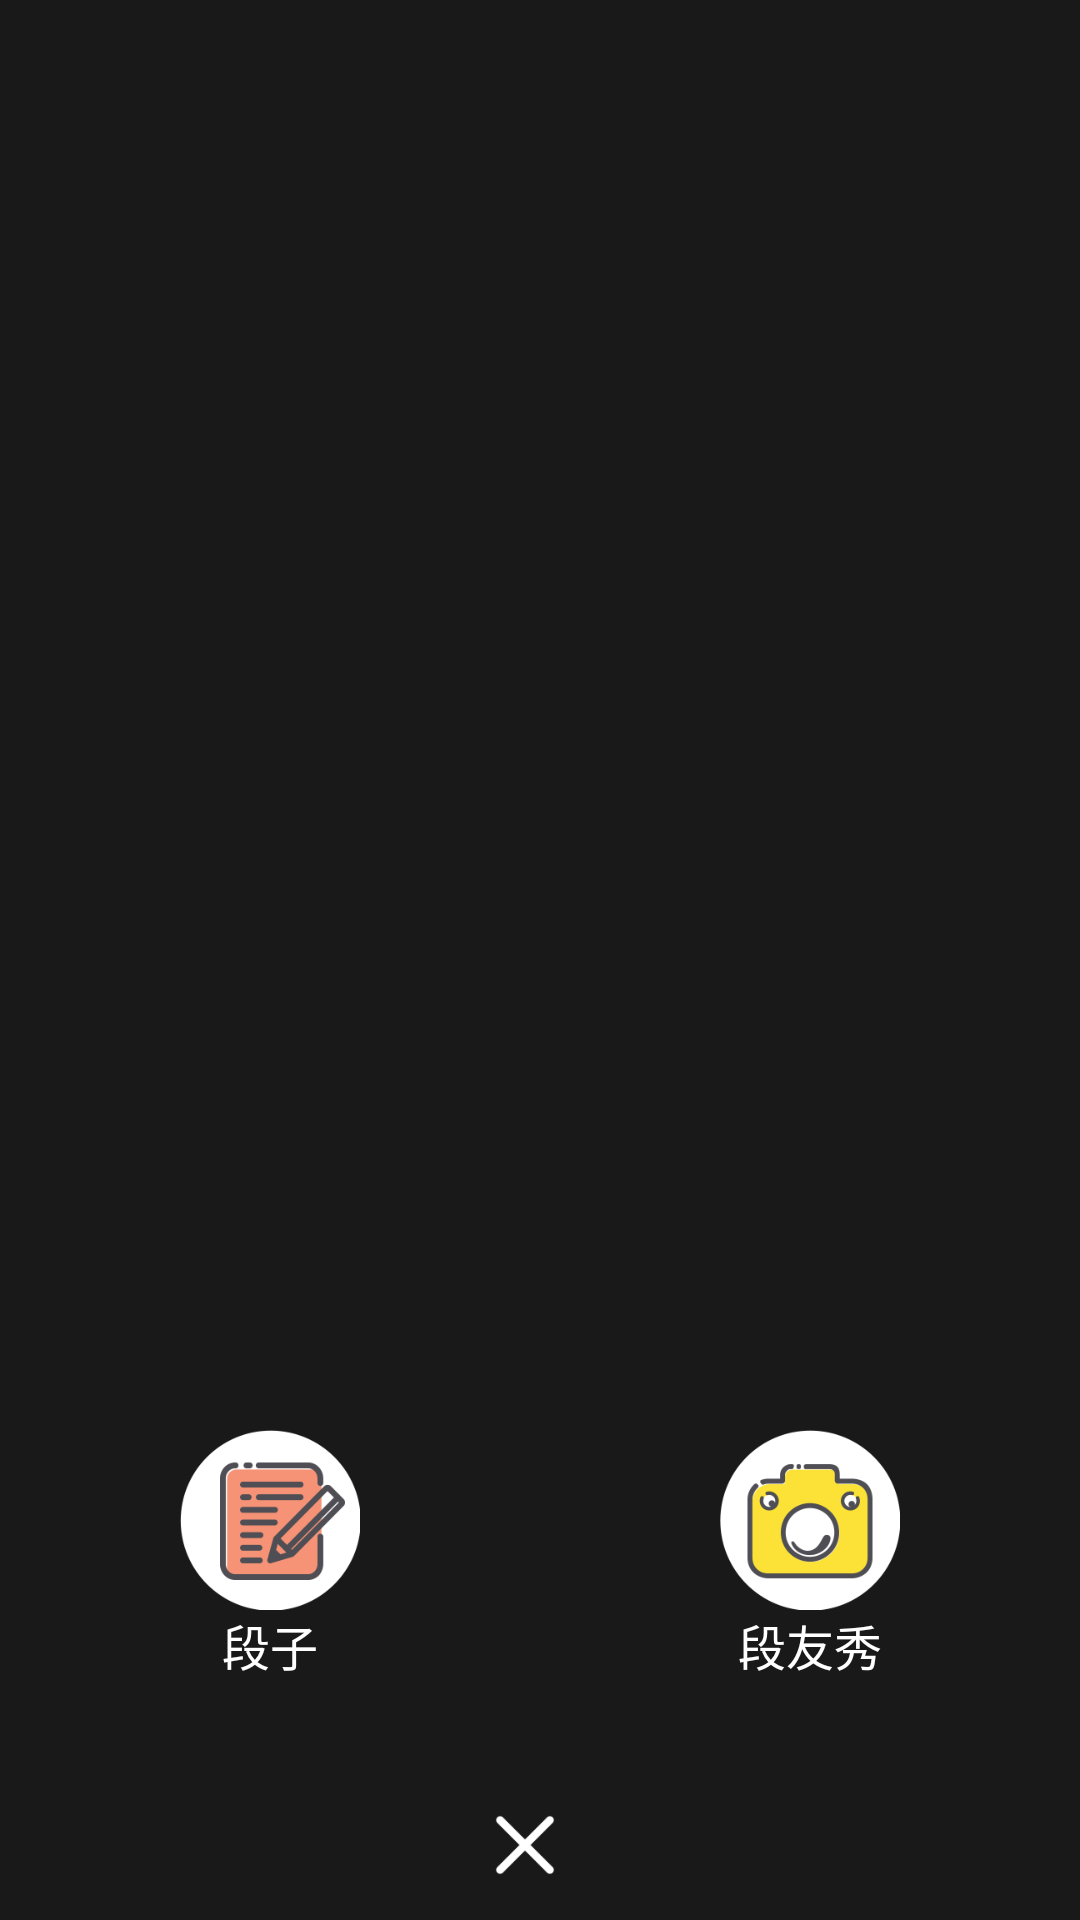

Where to tap for icons on this 1080 x 1920 app screen, as (x=x, y=y):
close: (x=525, y=1845)
